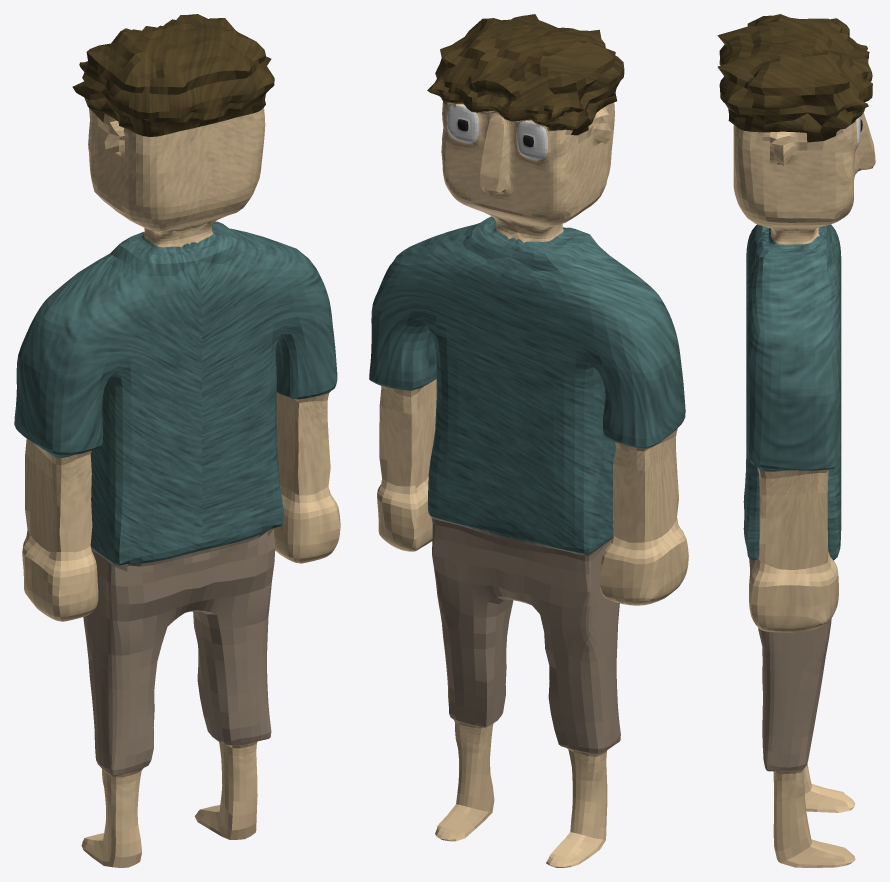
The model's file is character.obj.
3 renders of one model, left to right at view 1: azimuth 30°, elevation 25°; view 2: azimuth 150°, elevation 25°; view 3: azimuth 270°, elevation 25°, orthographic. The views are drawn at different scales.
Visible parts, largest first — view 1: my_character:pCube1; view 2: my_character:pCube1; view 3: my_character:pCube1.
Part boxes in pixels (box(x1,y1,x2,y2)): my_character:pCube1: box(14, 14, 340, 867); my_character:pCube1: box(369, 14, 688, 867); my_character:pCube1: box(717, 14, 875, 867).
Bounding box in the file's own units: 12.86 × 34.19 × 6.15.
